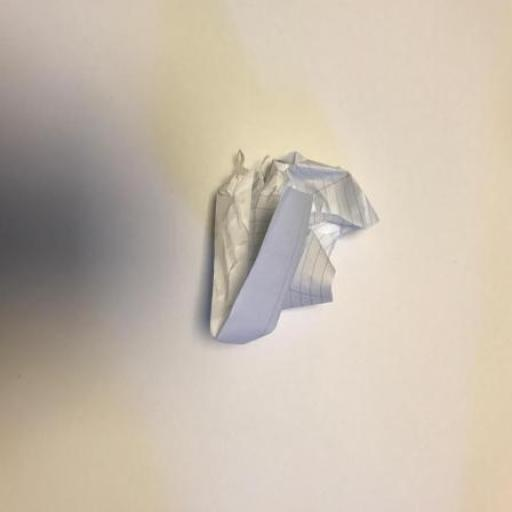paper: (207, 142, 382, 348)
